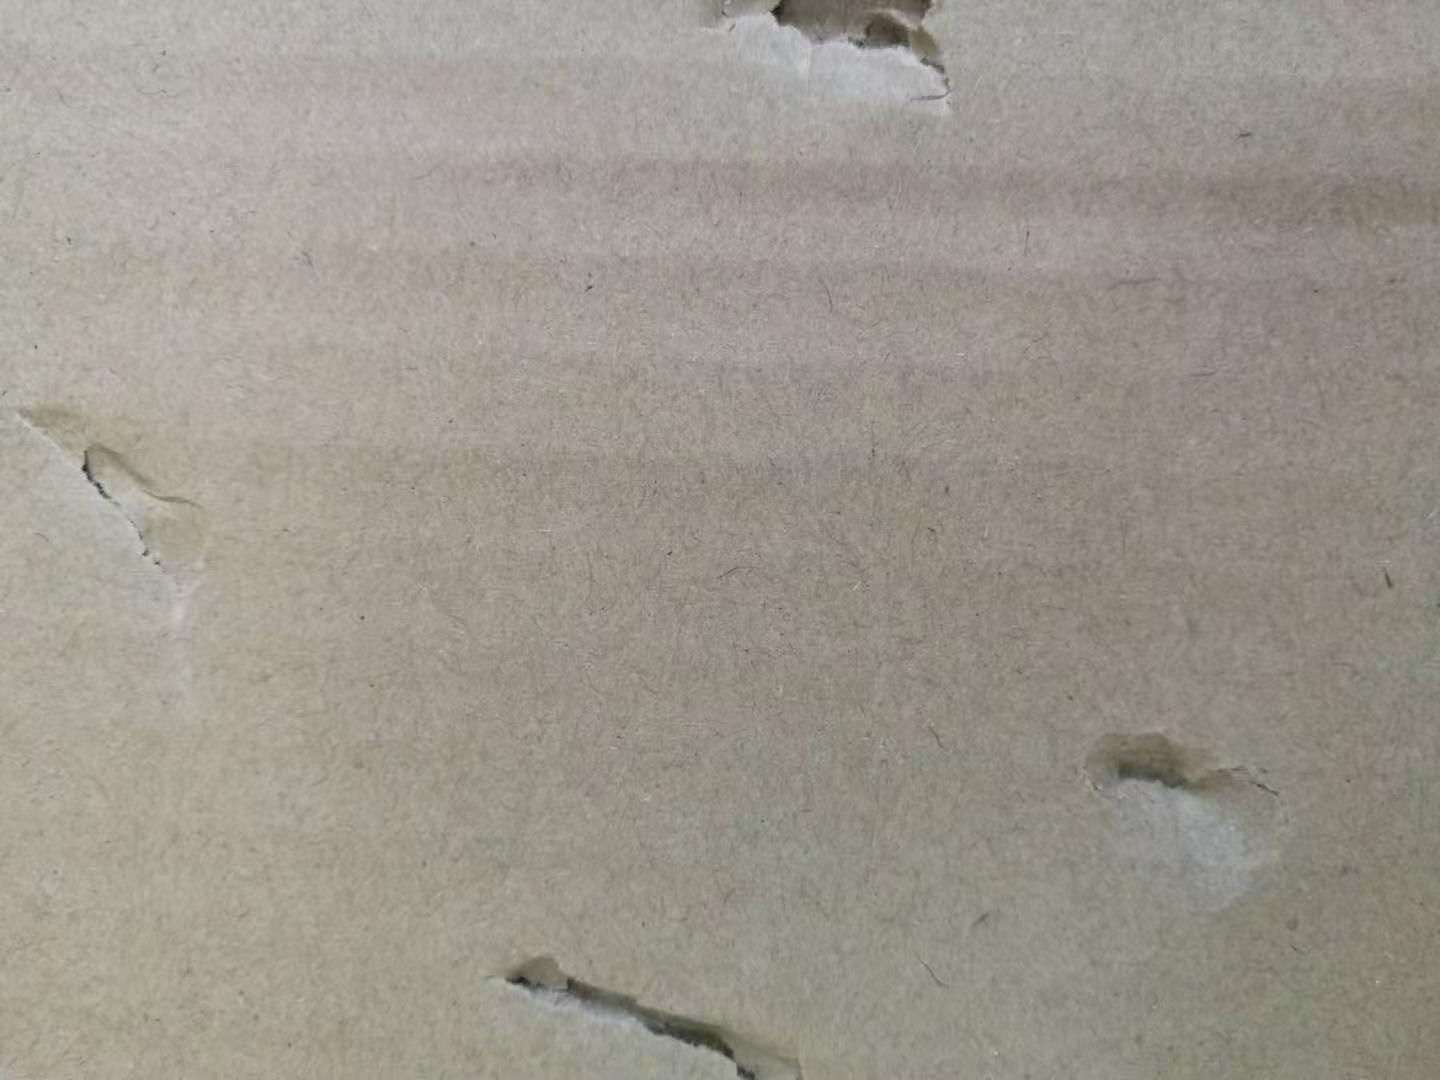defect: (3, 364, 257, 692), (1052, 682, 1325, 946), (466, 918, 849, 1080), (679, 3, 994, 138)
